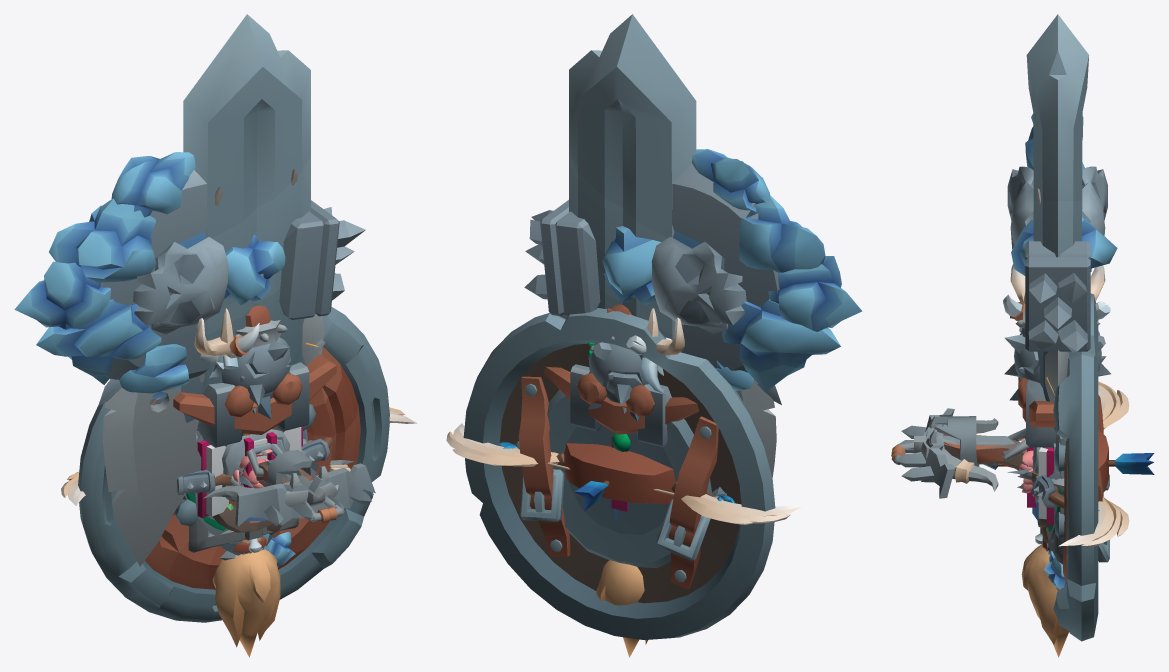
File: kit_weapons.glb
3 views of the same model, side by side, from view 1: azimuth 30°, elevation 25°; view 2: azimuth 150°, elevation 25°; view 3: azimuth 270°, elevation 25° (orthographic).
Visible parts, largest first — view 1: BlackKnight_Sword_Large, BlackKnight_Shield_Large, FrostGolem_Axe_Large, Skeleton_Golem_Axe_Large, Orc_Axe_Large, Skeleton_Crossbow, Broom, hammer_A, crossbow_2handed, Skeleton_Mace, Skeleton_Shield_Large_A, spellbook_open (+8 smaller); view 2: BlackKnight_Shield_Large, BlackKnight_Sword_Large, FrostGolem_Axe_Large, Skeleton_Golem_Axe_Large, bow_C_withString, Skeleton_Mace, hammer_A, Broom, Orc_Axe_Large, druid_staff, Skeleton_Staff; view 3: BlackKnight_Sword_Large, BlackKnight_Shield_Large, Skeleton_Golem_Axe_Large, Skeleton_Crossbow, crossbow_2handed, FrostGolem_Axe_Large, bow_C_withString, Broom, Skeleton_Mace, hammer_A, axe_2handed, arrow_A (+6 smaller).
Part boxes in pixels (x1,y1,x2,y2): BlackKnight_Sword_Large: [173, 14, 336, 552]; BlackKnight_Shield_Large: [78, 306, 389, 622]; FrostGolem_Axe_Large: [14, 152, 295, 566]; Skeleton_Golem_Axe_Large: [100, 170, 365, 560]; Orc_Axe_Large: [103, 386, 282, 566]; Skeleton_Crossbow: [235, 444, 375, 526]; Broom: [212, 531, 280, 657]; hammer_A: [197, 362, 309, 447]; crossbow_2handed: [203, 442, 354, 523]; Skeleton_Mace: [221, 337, 290, 405]; Skeleton_Shield_Large_A: [194, 426, 290, 543]; spellbook_open: [197, 426, 302, 517]; BlackKnight_Shield_Large: [463, 308, 775, 639]; BlackKnight_Sword_Large: [543, 14, 699, 434]; FrostGolem_Axe_Large: [602, 149, 862, 520]; Skeleton_Golem_Axe_Large: [524, 163, 779, 379]; bow_C_withString: [446, 423, 802, 524]; Skeleton_Mace: [576, 342, 648, 405]; hammer_A: [570, 364, 671, 447]; Broom: [596, 560, 647, 657]; Orc_Axe_Large: [736, 380, 776, 477]; druid_staff: [587, 308, 684, 357]; Skeleton_Staff: [626, 335, 671, 394]; BlackKnight_Sword_Large: [1018, 14, 1088, 550]; BlackKnight_Shield_Large: [1053, 293, 1109, 641]; Skeleton_Golem_Axe_Large: [1007, 166, 1107, 557]; Skeleton_Crossbow: [895, 408, 1026, 498]; crossbow_2handed: [891, 416, 1029, 491]; FrostGolem_Axe_Large: [1011, 113, 1117, 589]; bow_C_withString: [1058, 381, 1129, 547]; Broom: [1021, 544, 1069, 657]; Skeleton_Mace: [1004, 331, 1111, 382]; hammer_A: [1026, 380, 1056, 447]; axe_2handed: [1045, 349, 1068, 403]; arrow_A: [983, 453, 1154, 474].
Size of the model in its own units: 3.23 by 4.95 by 1.84.
20 materials, 20 textured.
